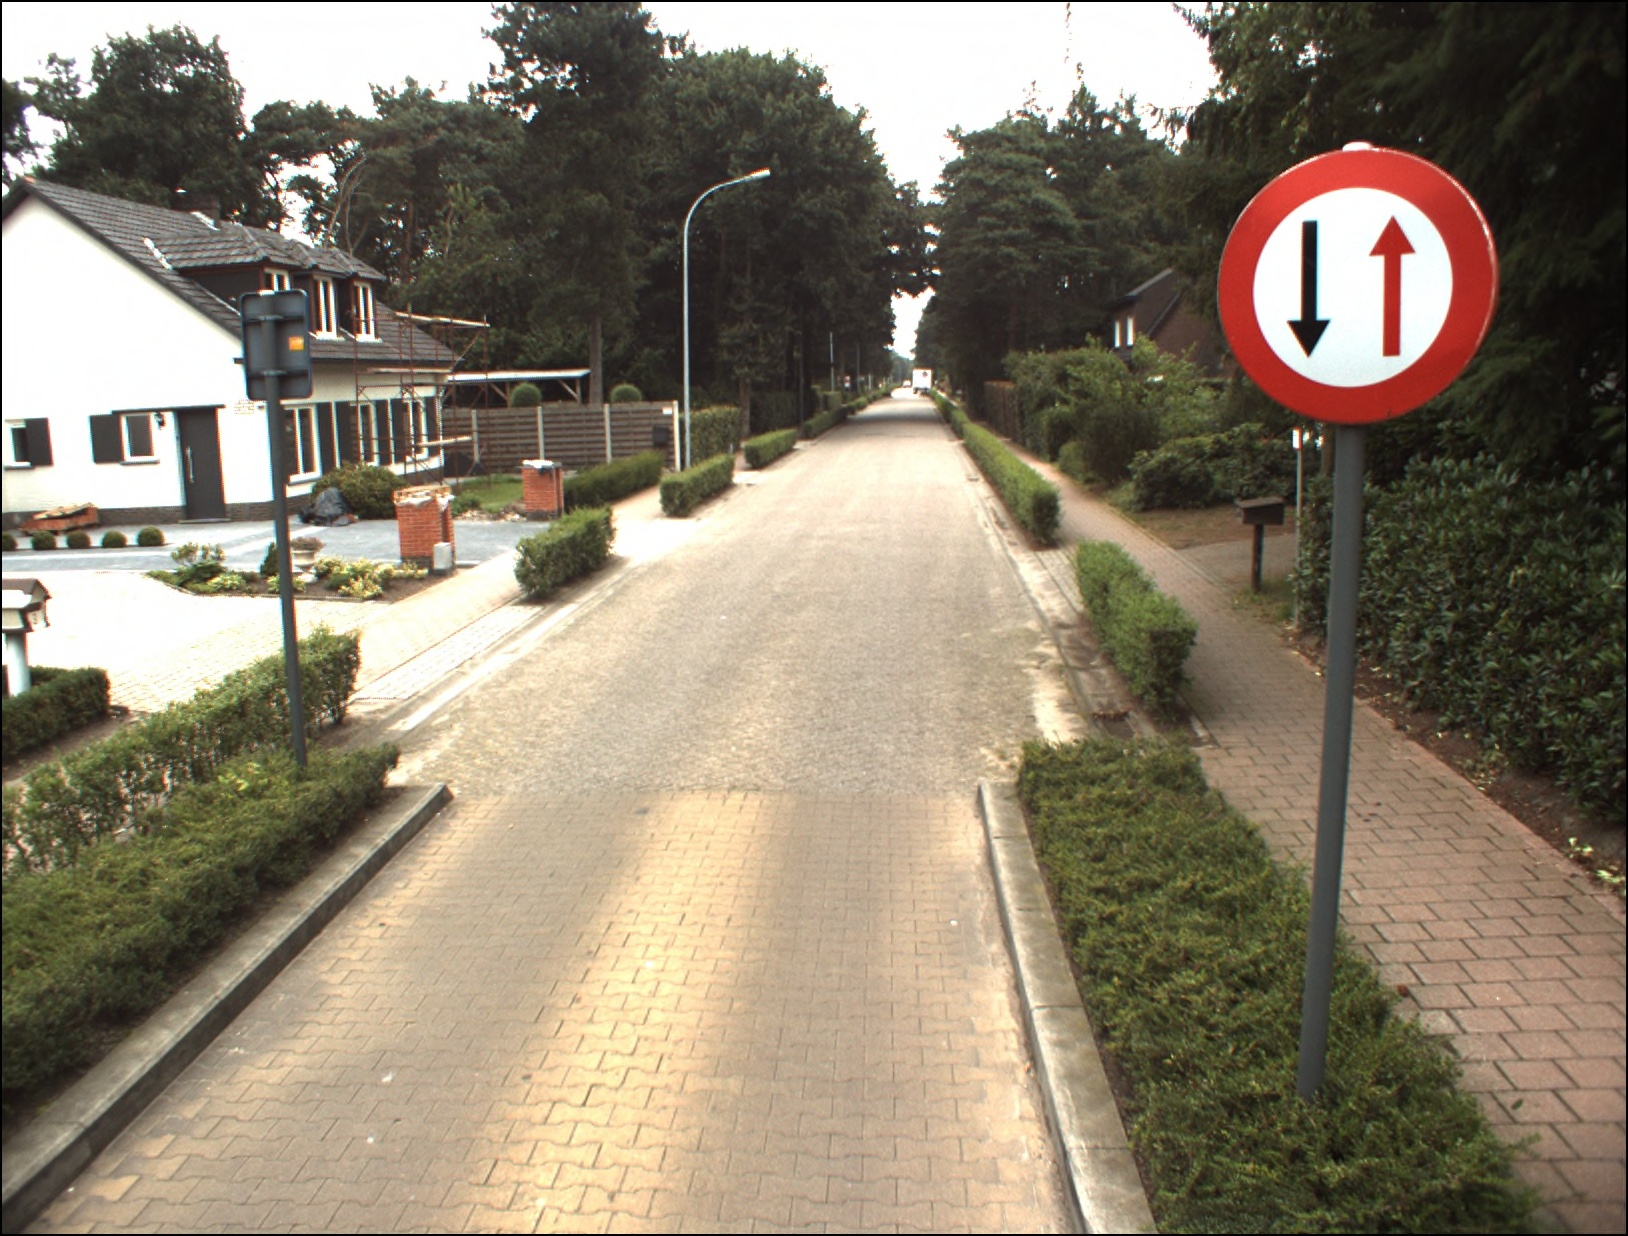roadnarrow2: (1219, 151, 1496, 415)
